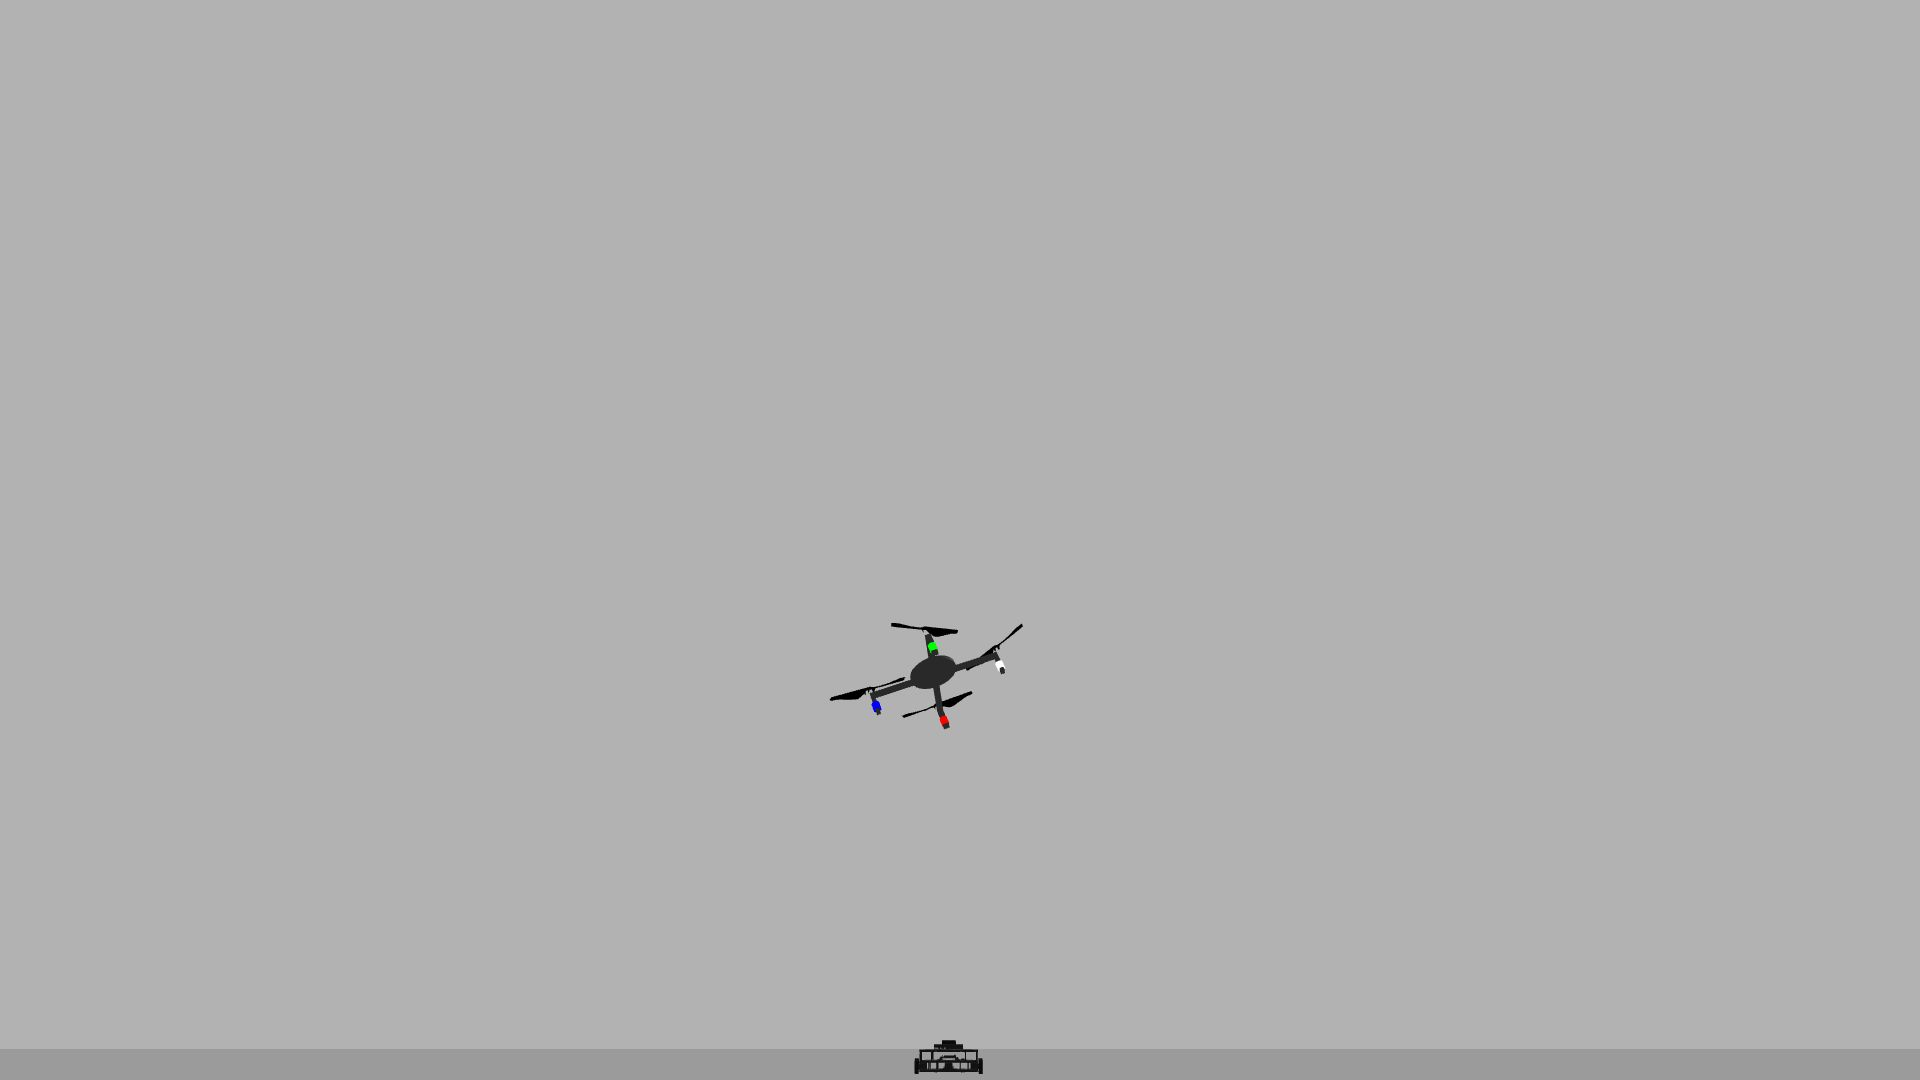drone: (816, 599, 1046, 741)
